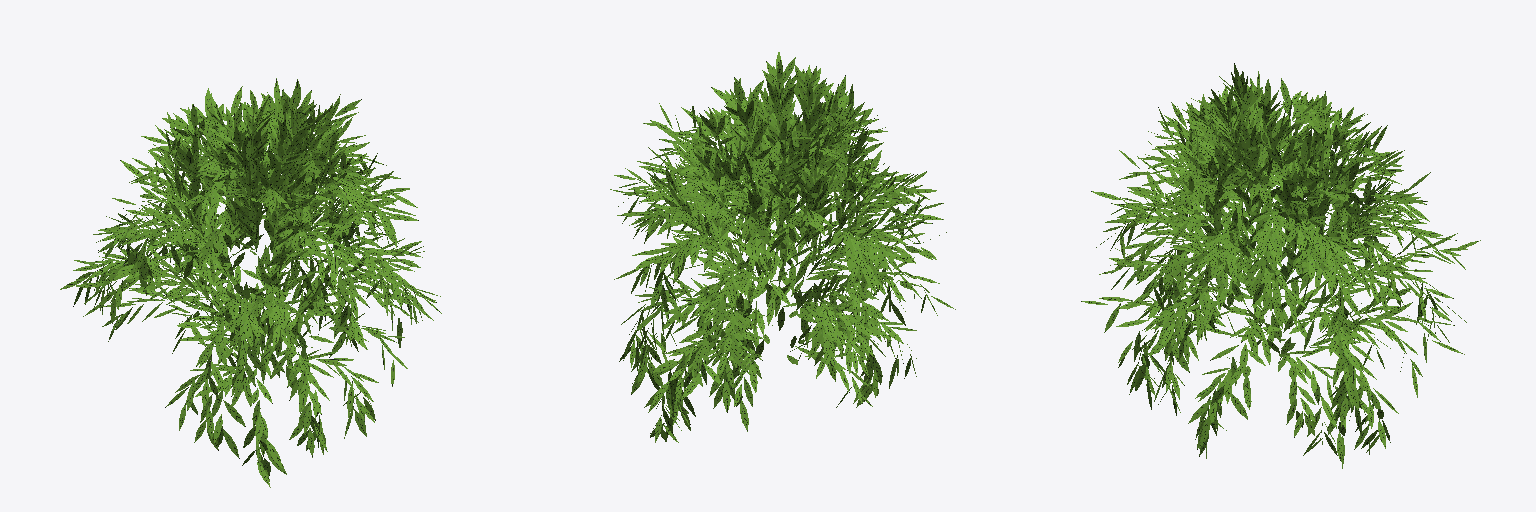
The picture shows the model from 3 angles: view 1: azimuth 30°, elevation 25°; view 2: azimuth 150°, elevation 25°; view 3: azimuth 270°, elevation 25°; orthographic projection.
Parts seen in each view (by area): view 1: leaves_Material; view 2: leaves_Material; view 3: leaves_Material.
Boxes of the visible parts, x1=… form: leaves_Material: x1=60, y1=78, x2=441, y2=487; leaves_Material: x1=610, y1=52, x2=955, y2=442; leaves_Material: x1=1081, y1=63, x2=1480, y2=468.
Size of the model in its own units: 6.36 by 6.66 by 6.71.
Materials: 1 (1 with a texture image).